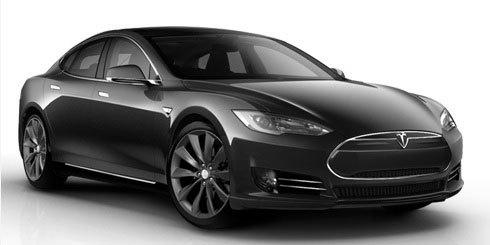car: (18, 24, 466, 230)
